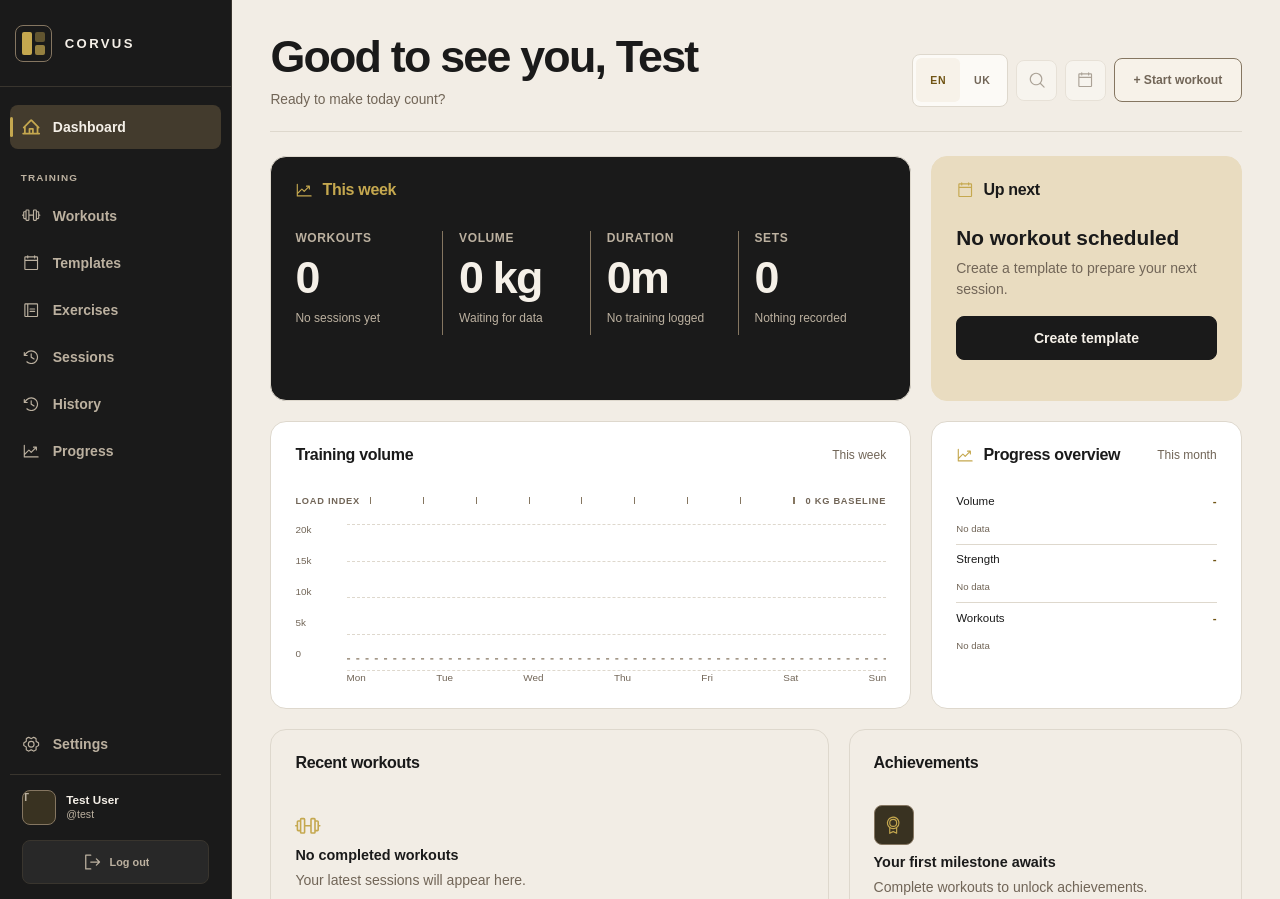
Test: workout templates › warns before navigating away from unsaved changes
Click the button "Templates".
click(116, 263)  # box x1=10 y1=241 x2=221 y2=285
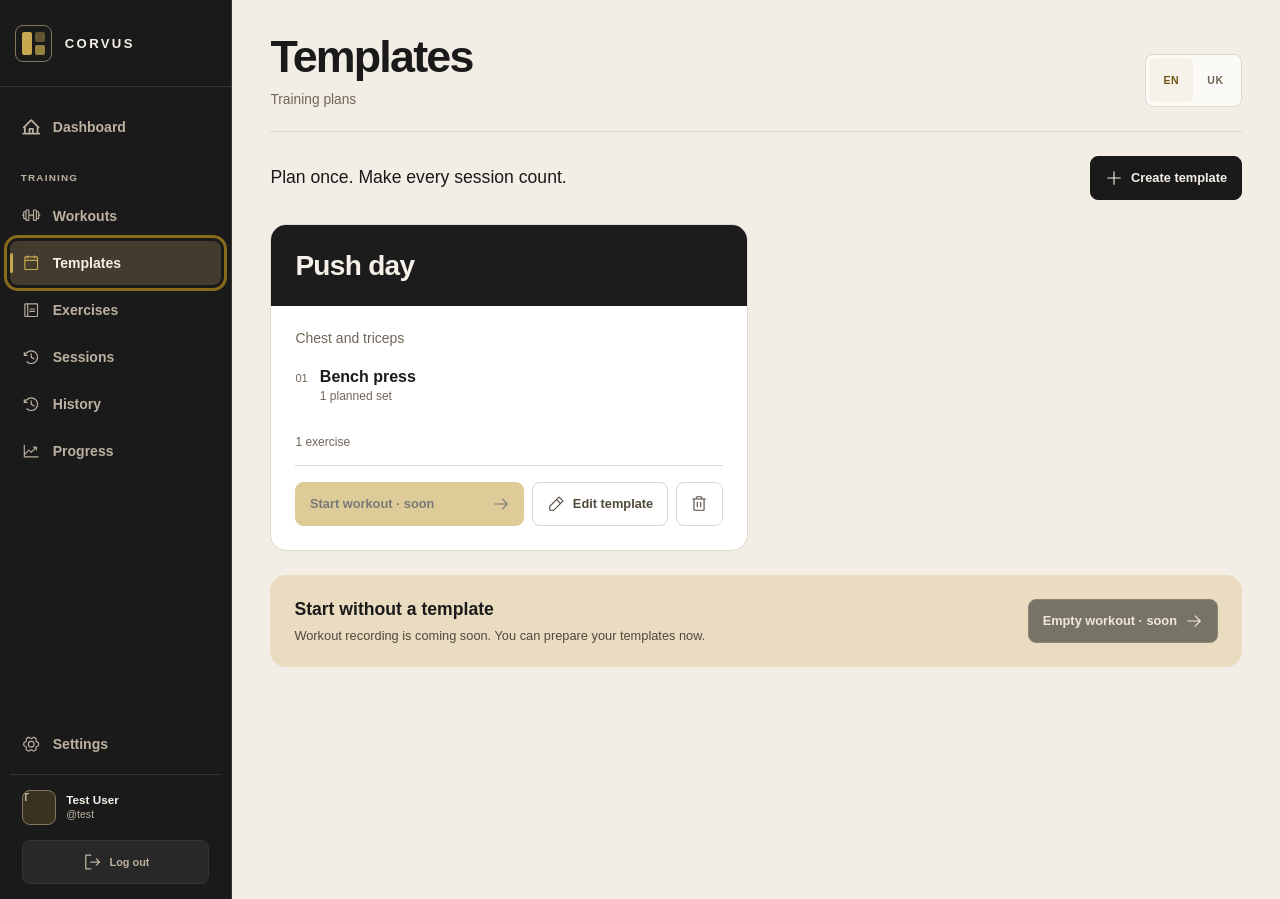
Click the button with aria-label "Edit Push day".
click(600, 504)  # box x1=532 y1=482 x2=668 y2=526
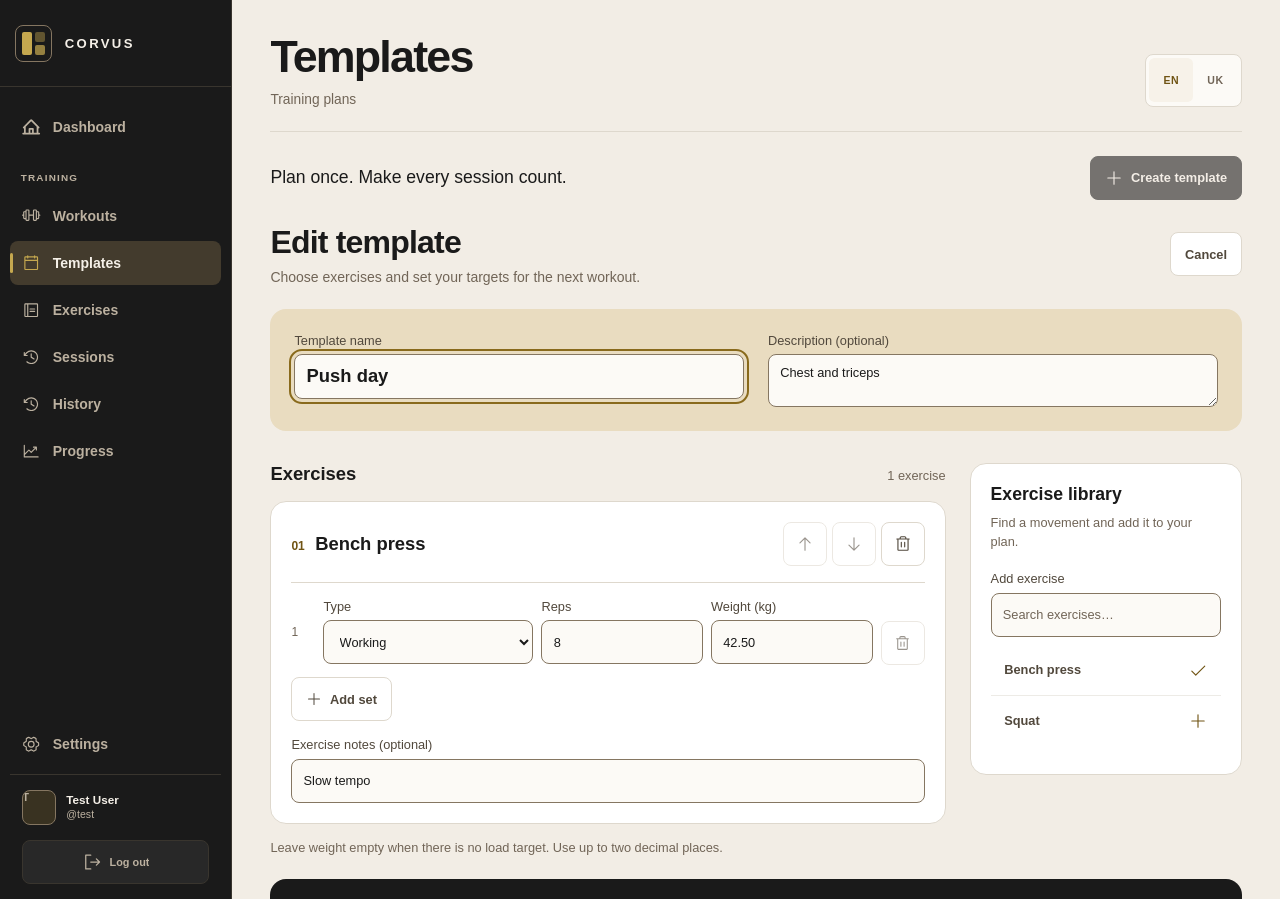
Type " B" into the field labelled "Template name".
click(519, 376); type(" B")  # box x1=294 y1=354 x2=744 y2=399
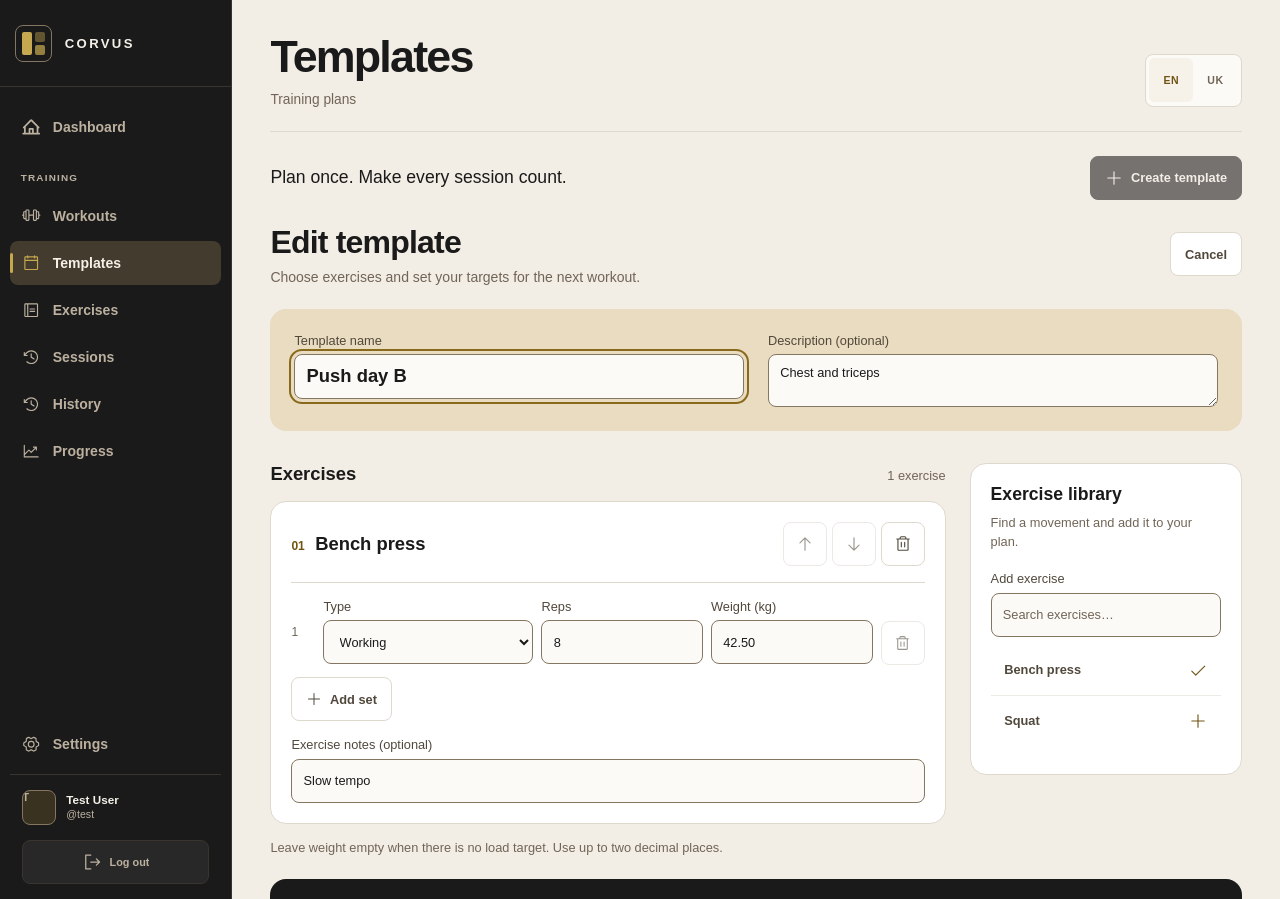
Click the button "Dashboard".
click(116, 127)  # box x1=10 y1=105 x2=221 y2=149
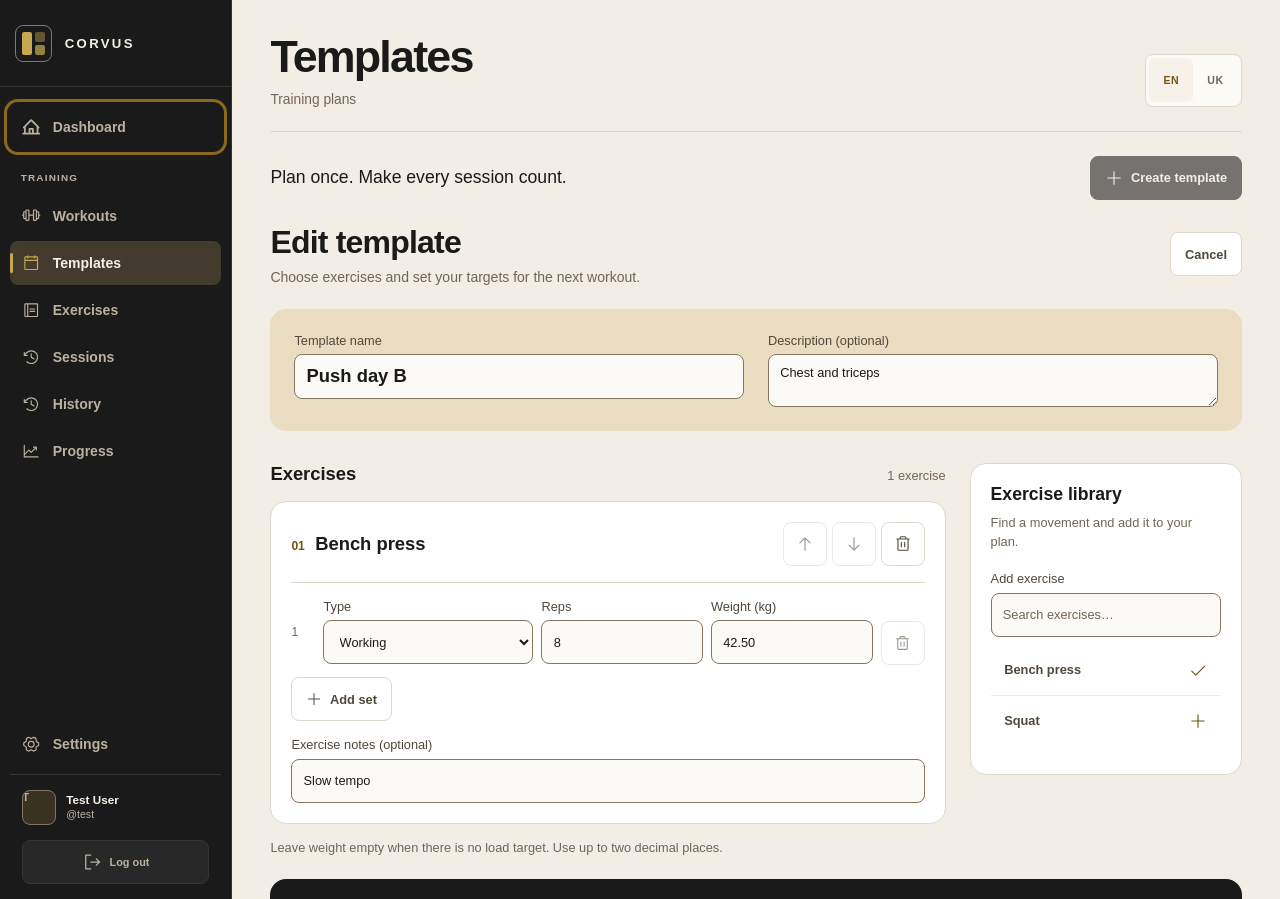
expect the field labelled "Template name" holds "Push day B": met, box x1=294 y1=354 x2=744 y2=399
Click the button "Dashboard".
click(116, 127)  # box x1=10 y1=105 x2=221 y2=149
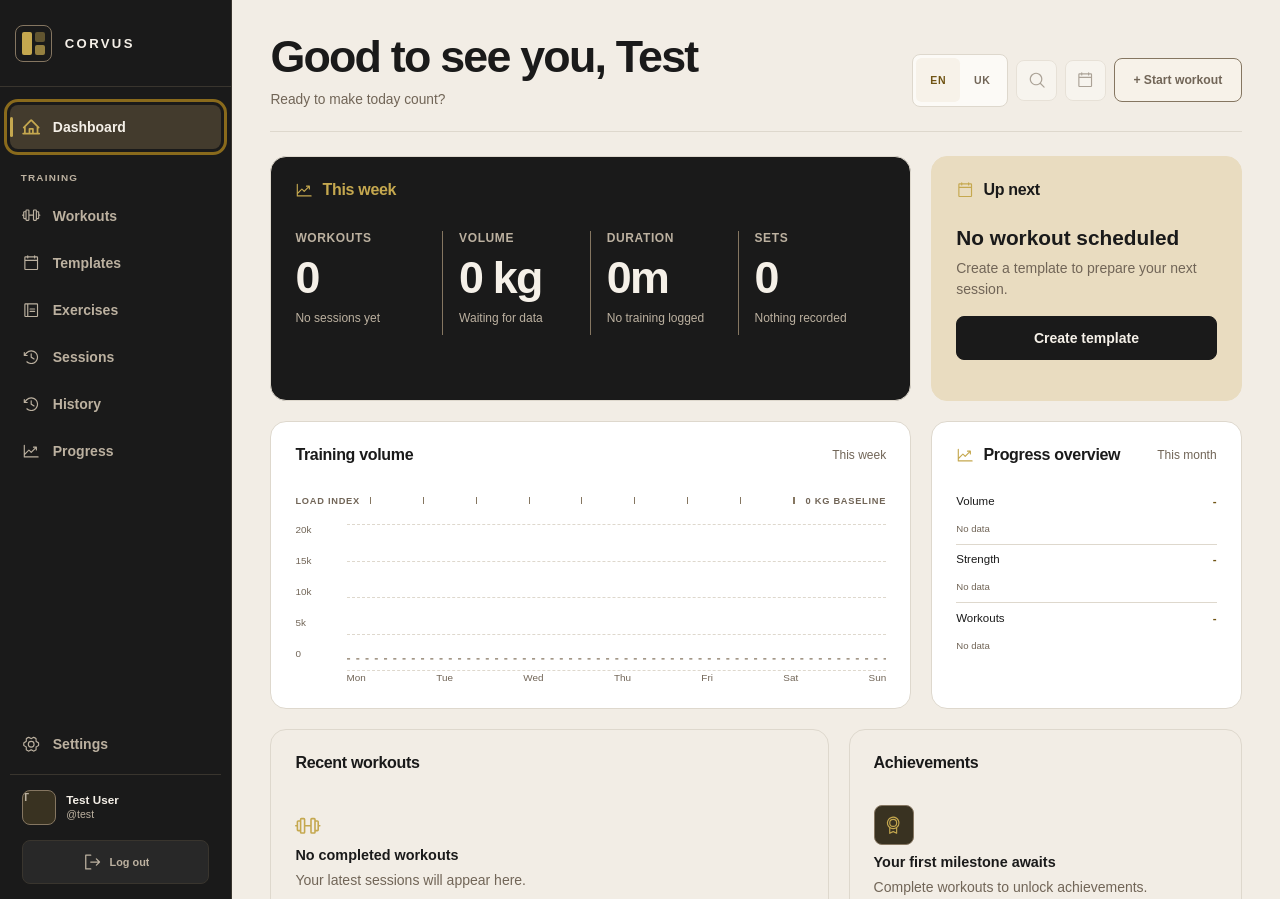
expect the label labelled "Template name" is gone: met
